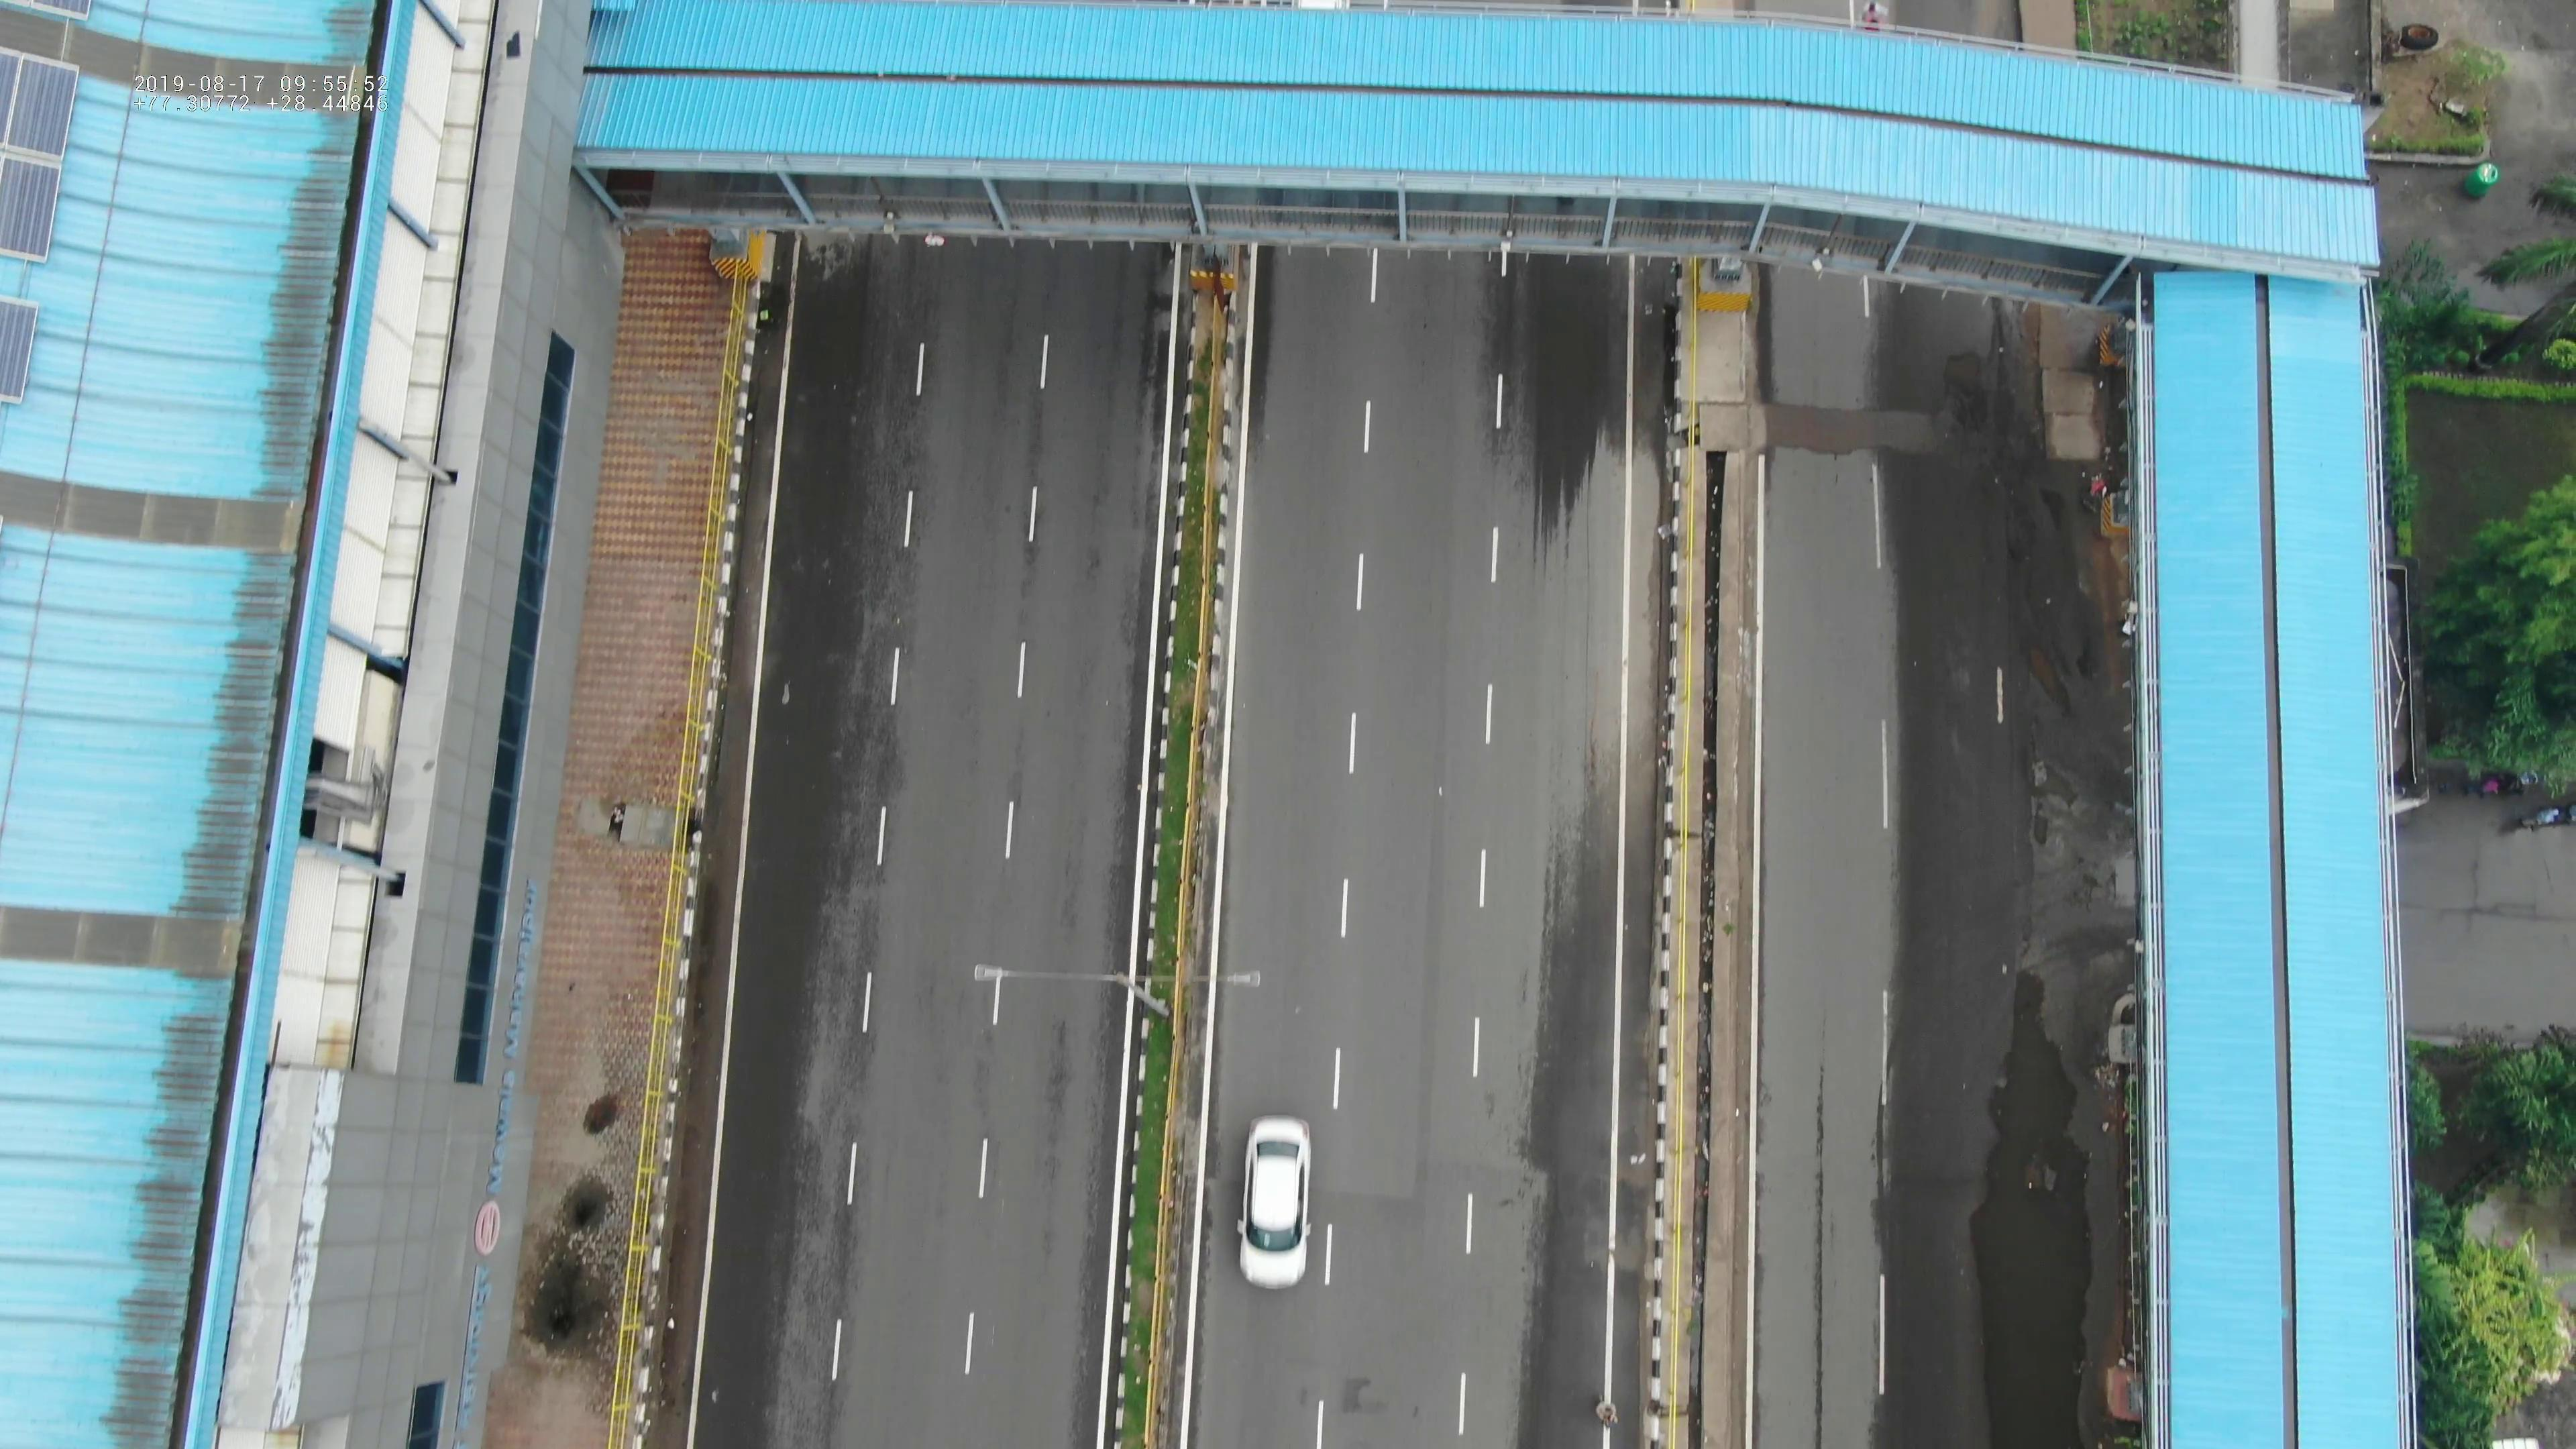Waterlogging: (1927, 952, 2112, 1447)
